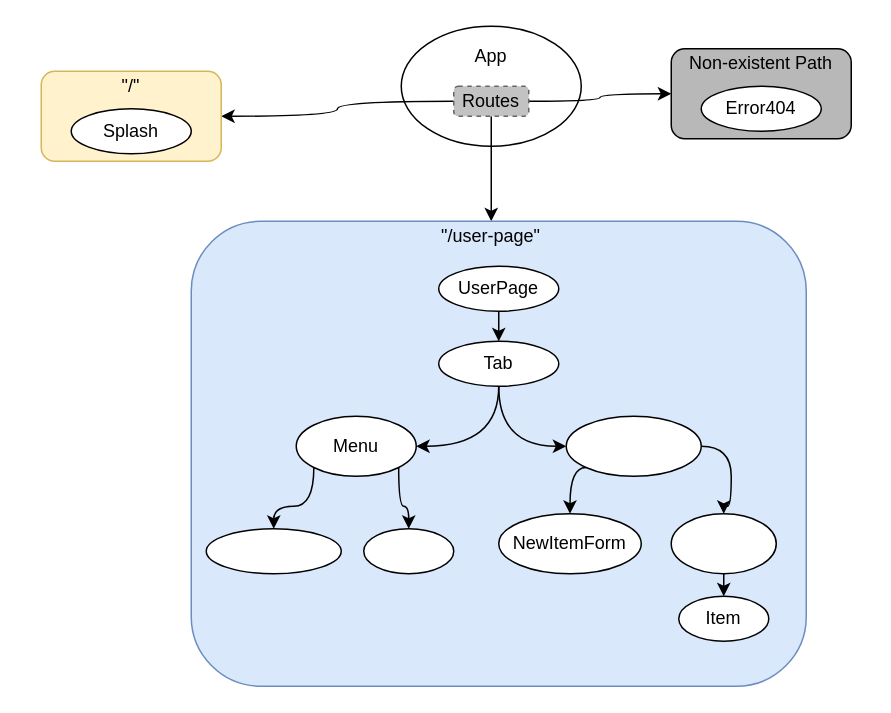
Image size: 891x713. Some labels were removed from this diagram. The shapes that lost their labels are listed below. From the top down, each one's centre as x and y in pixels, then its label:
At [633,445]: "ShoppingList".
At [273,550]: "DayOfWeek".
At [408,550]: "Snacks".
At [723,543]: "Category".
